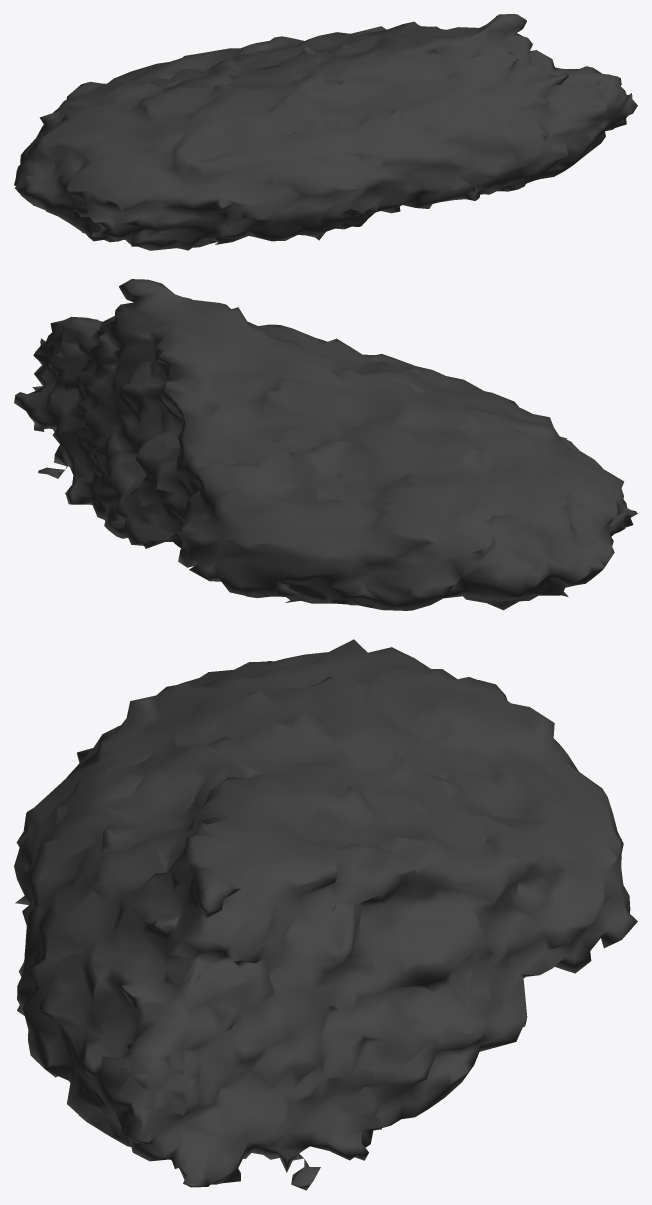
File: reclining-2.glb
3 views of the same model, one above another, from view 1: azimuth 30°, elevation 25°; view 2: azimuth 150°, elevation 25°; view 3: azimuth 270°, elevation 25° (orthographic). The views are drawn at different scales.
Parts seen in each view (by area): view 1: geometry_0; view 2: geometry_0; view 3: geometry_0.
Boxes of the visible parts, x1,y1,x2,y2 form: geometry_0: [14, 14, 637, 250]; geometry_0: [14, 279, 637, 610]; geometry_0: [14, 639, 637, 1190].
Bounding box in the file's own units: 3.38 × 1 × 1.96.
1 material, 1 textured.
